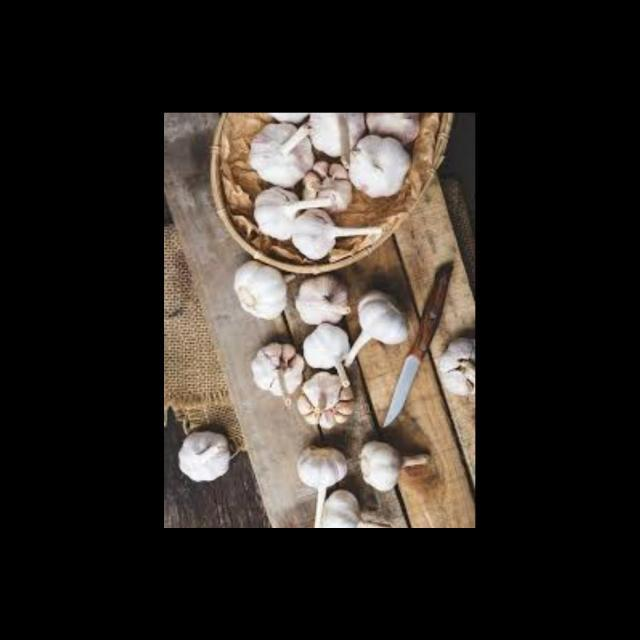garlic: (356, 430, 439, 500), (250, 120, 322, 189), (298, 369, 366, 442), (242, 336, 314, 401), (294, 156, 369, 218), (352, 134, 416, 206), (222, 256, 291, 321), (176, 414, 238, 486), (354, 286, 420, 348), (298, 440, 349, 516), (304, 315, 357, 388), (429, 324, 476, 404), (292, 280, 358, 334), (313, 488, 398, 528), (256, 186, 310, 243), (312, 112, 370, 164), (290, 206, 350, 256), (362, 113, 429, 147)
